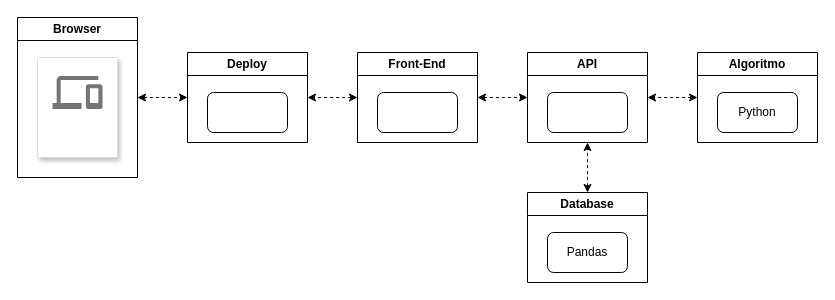
Image size: 835x300. Some labels were removed from this diagram. Here are the shapes that lost their labels. From the top down, the centre of each, then its label:
At point 78,108: "Usuário".
At point 247,112: "Heroku".
At point 417,112: "Streamlit".
At point 587,112: "Flask".
